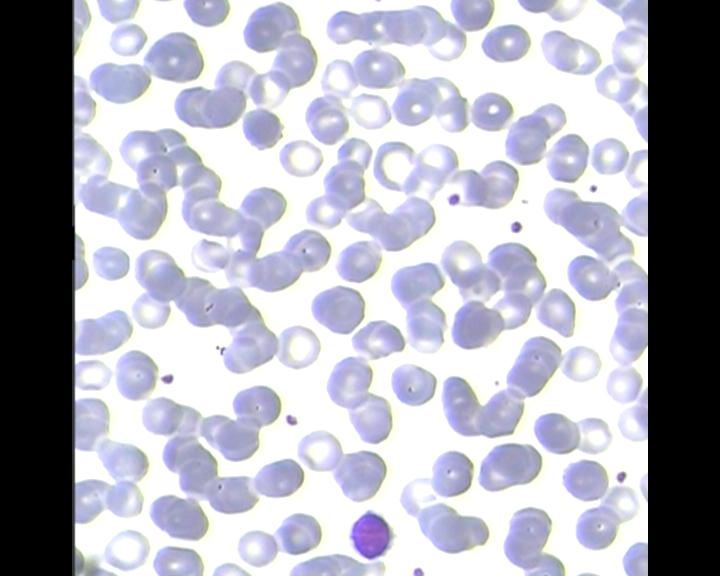lymp: (345, 507, 393, 560)
